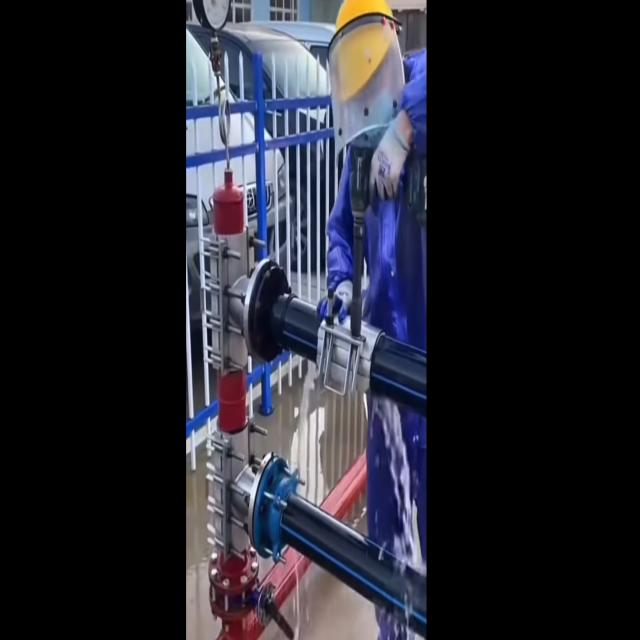leak: (371, 398, 418, 564)
